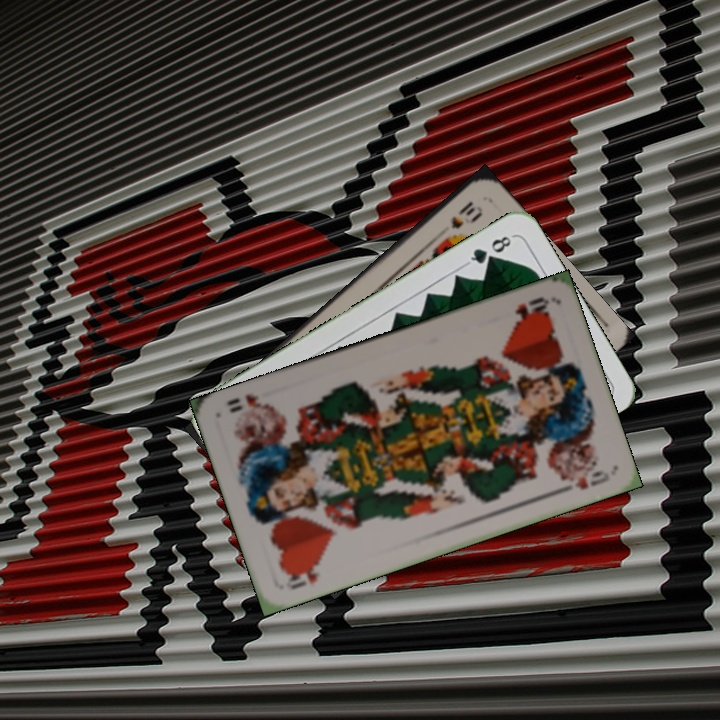G8: (463, 231, 516, 268)
HO: (509, 292, 552, 325), (282, 560, 323, 592)
S10: (447, 197, 478, 232)
